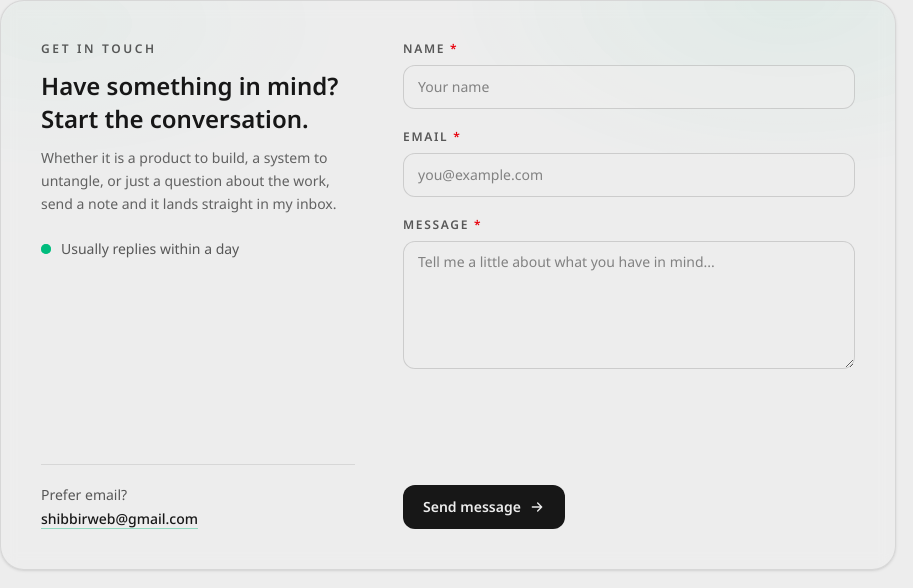
ContactForm › submits the values with the captcha token and shows the success panel
Type "Ada" into the field labelled "Name *" at (629, 87), box top-left (403, 65), bottom-right (855, 109)
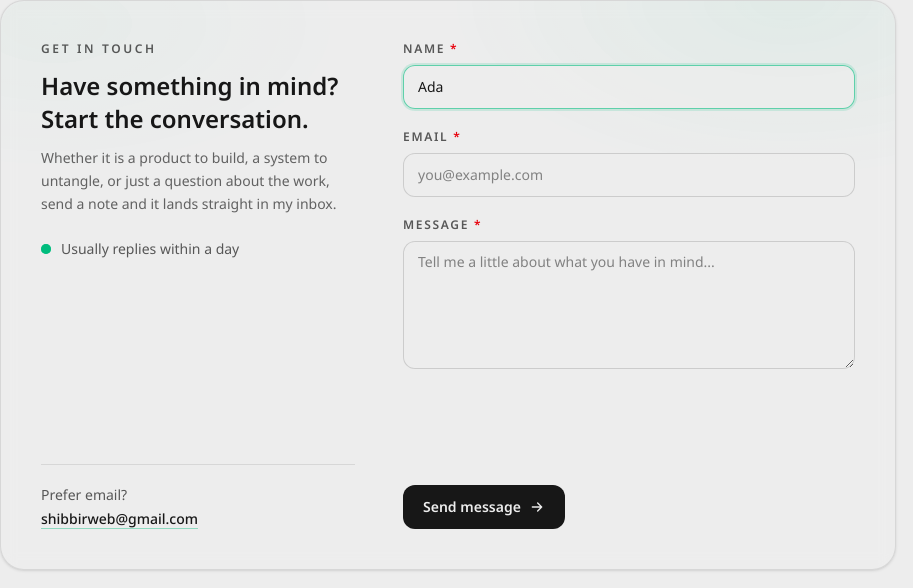
Type "ada@example.com" into the field labelled "Email *" at (629, 175), box top-left (403, 153), bottom-right (855, 197)
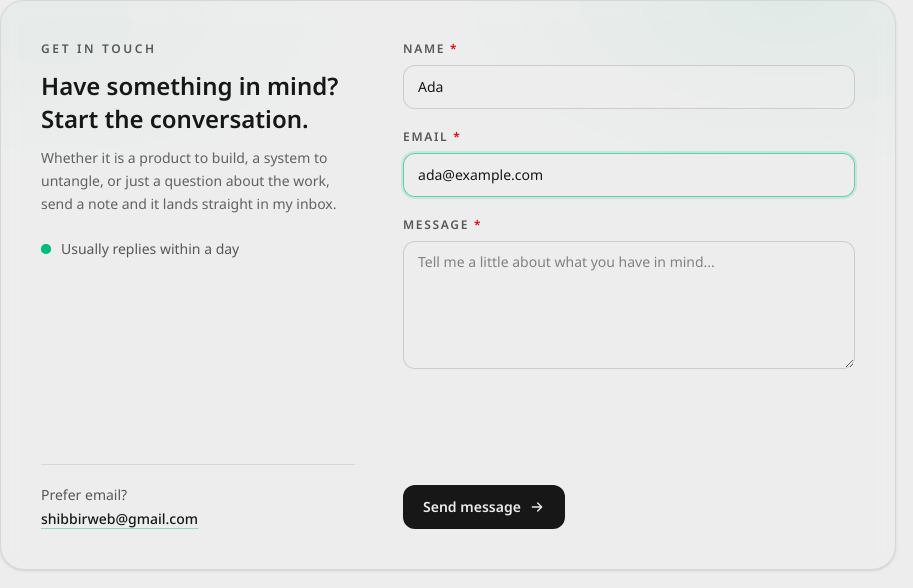
Type "Hello there" into the text box labelled "Message *" at (629, 305), box top-left (403, 241), bottom-right (855, 369)
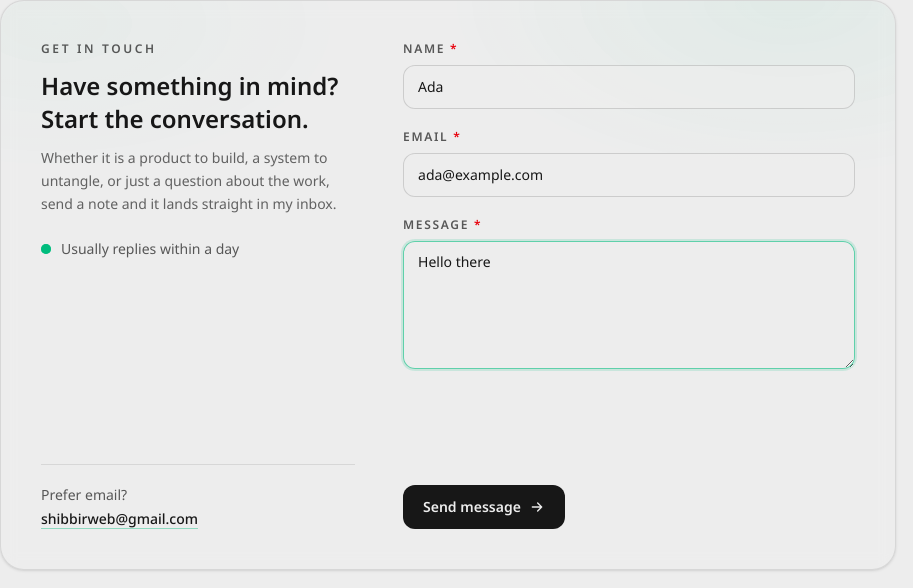
Click the button "Send message" at (484, 507), box top-left (403, 485), bottom-right (565, 529)
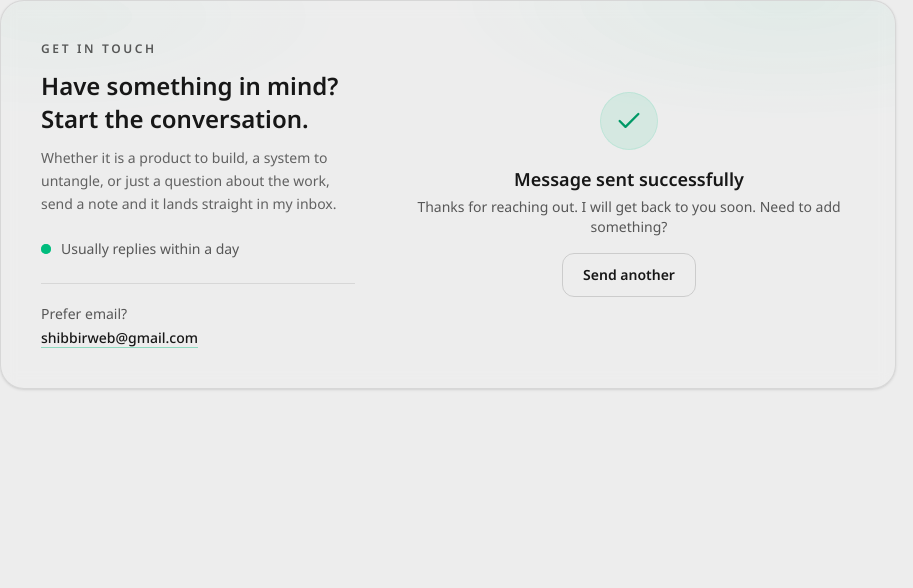
Now the message shows "Message sent successfully", box top-left (514, 167), bottom-right (744, 191)
Now the field is gone
